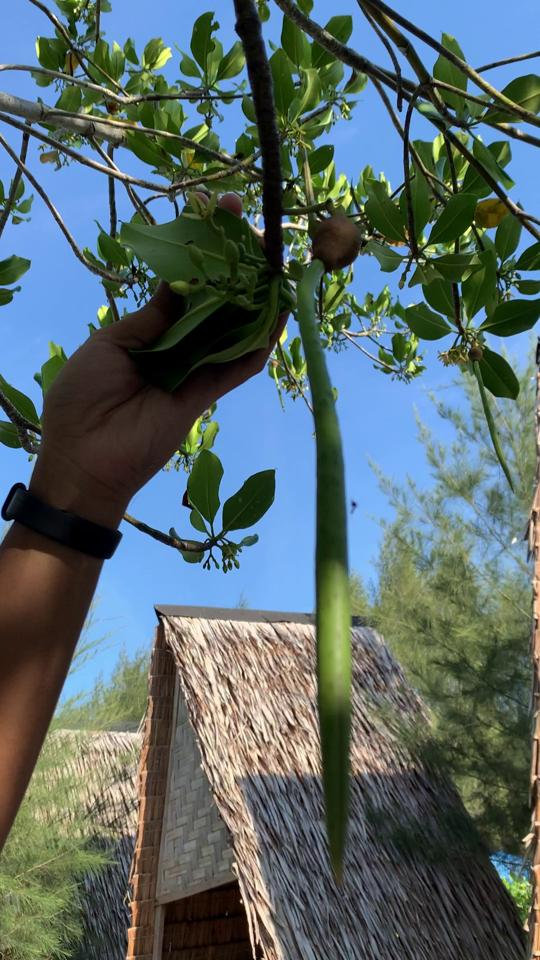mentah: (287, 196, 387, 900)
